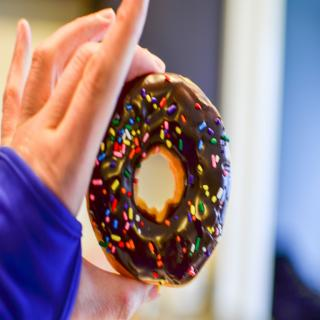Doughnut: (86, 72, 232, 287)
